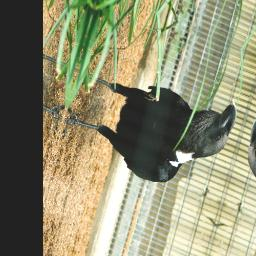Crow: (58, 35, 241, 209)
